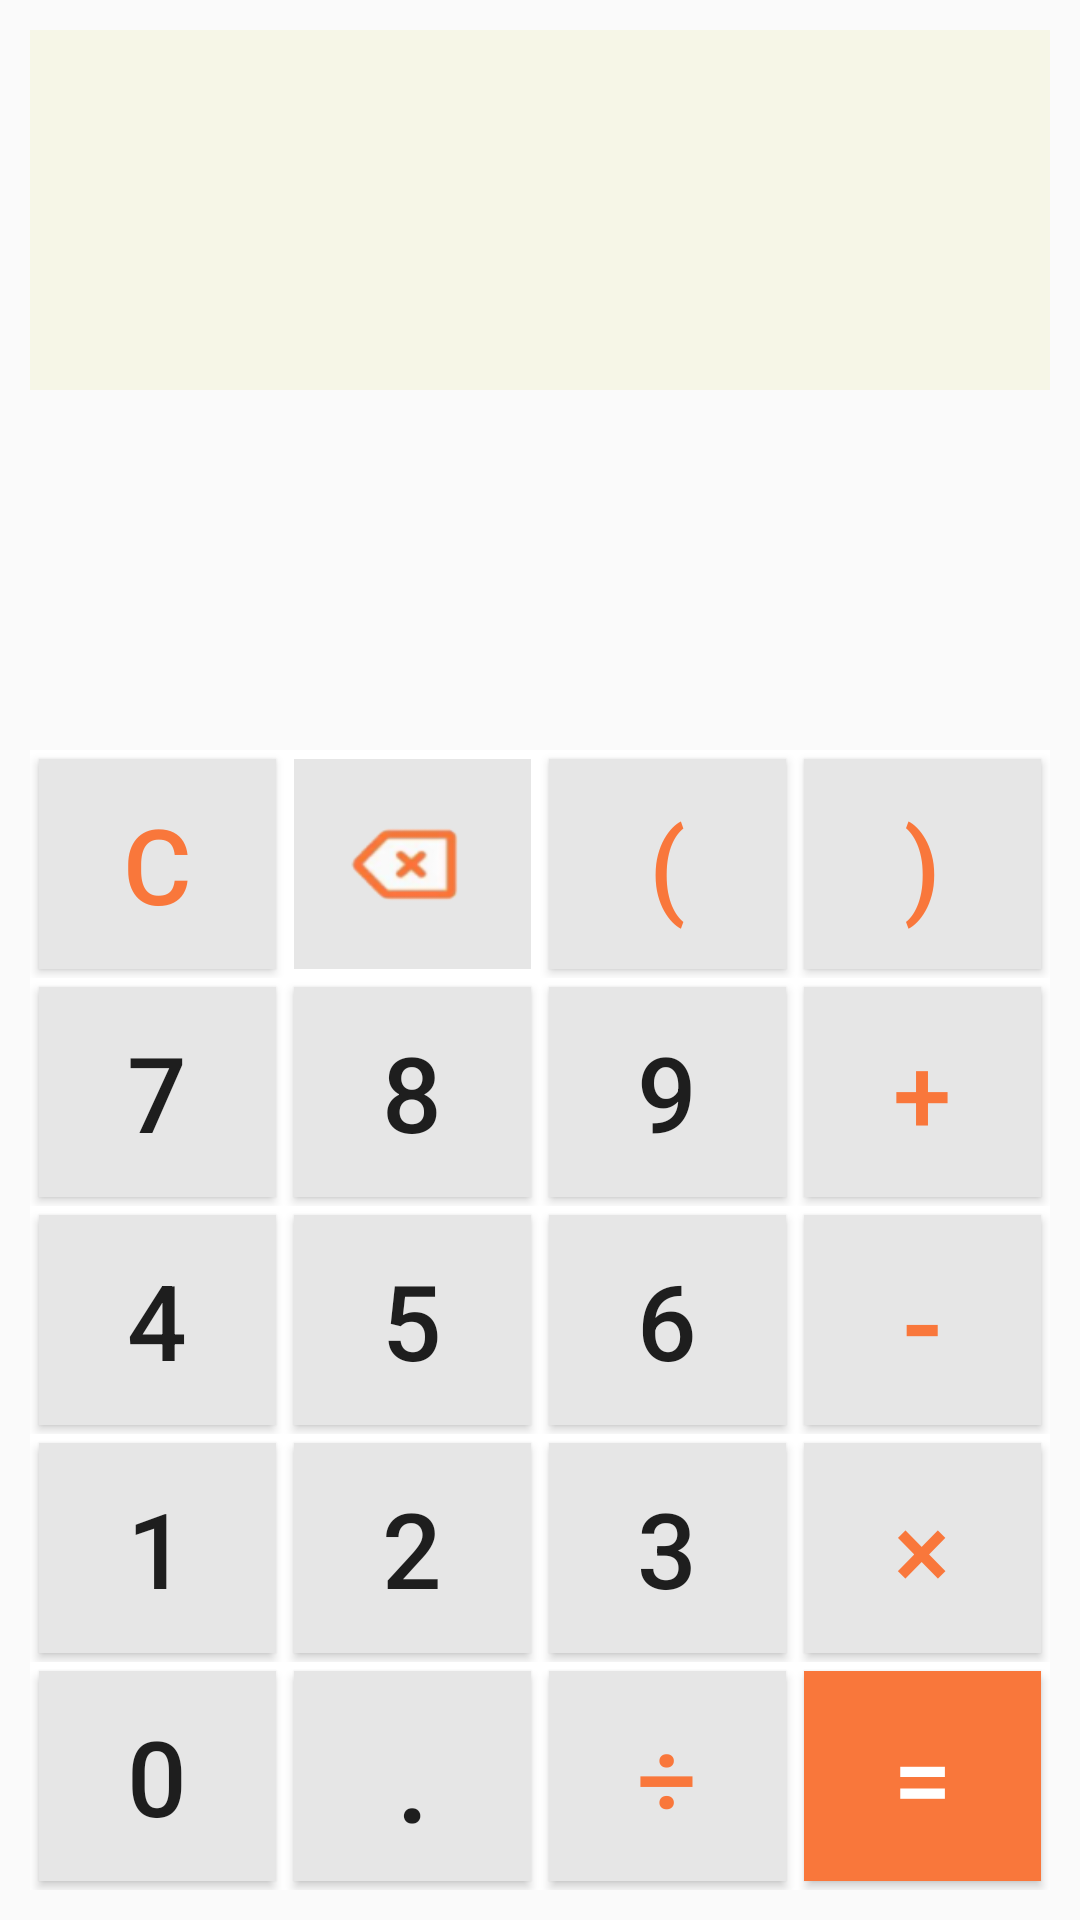

Icons on this 1080px x 1920px Android screen, each with its box as (x1, y1, x2, y2):
delete: (294, 759, 531, 969)
